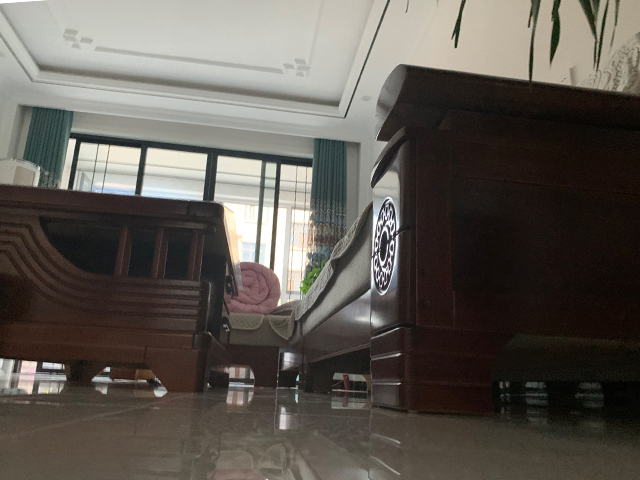curtain: (310, 139, 345, 281)
sofa: (295, 65, 639, 416)
table: (1, 183, 240, 394)
